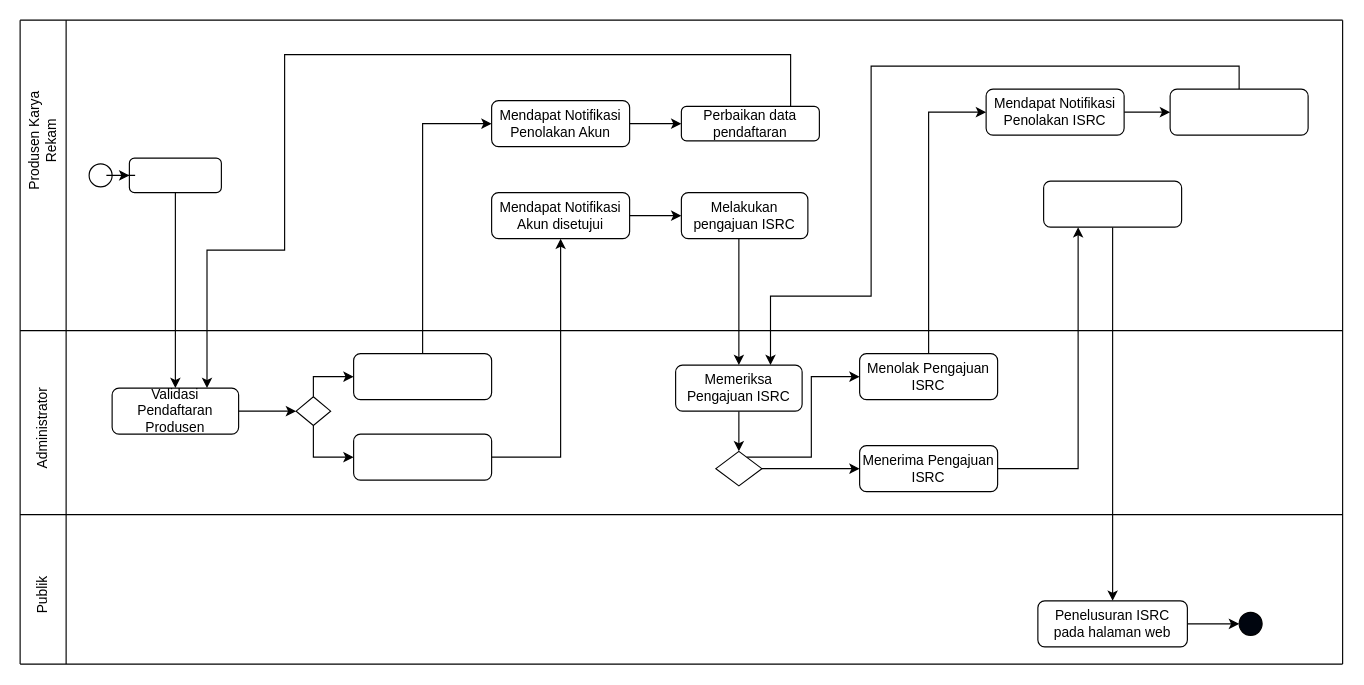
Image size: 1364x685. Some labels were removed from this diagram. The shapes that lost their labels are listed below. From the top down, each one's centre as x and y in pixels, then its label:
the point at 1238,111: Memperbaiki pengajuan ISRC bermasalah
the point at 174,175: Pendaftaran Akun
the point at 1112,203: Mendapat Notifikasi ISRC disetujui
the point at 422,376: Menolak produsen dan mengisi alasan penolakan
the point at 422,456: Menerima pendaftaran akun produsen
